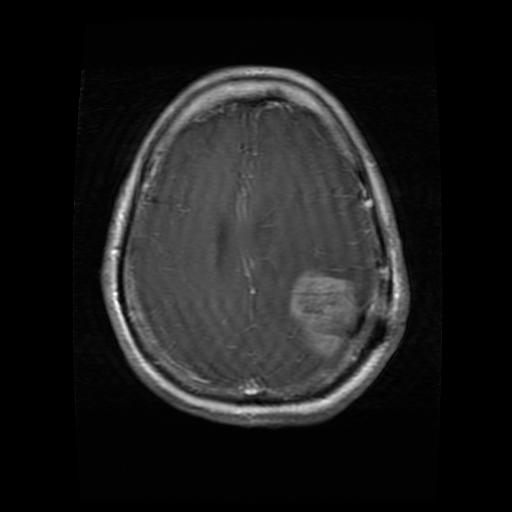Gliomia_tumour: (285, 265, 360, 355)
